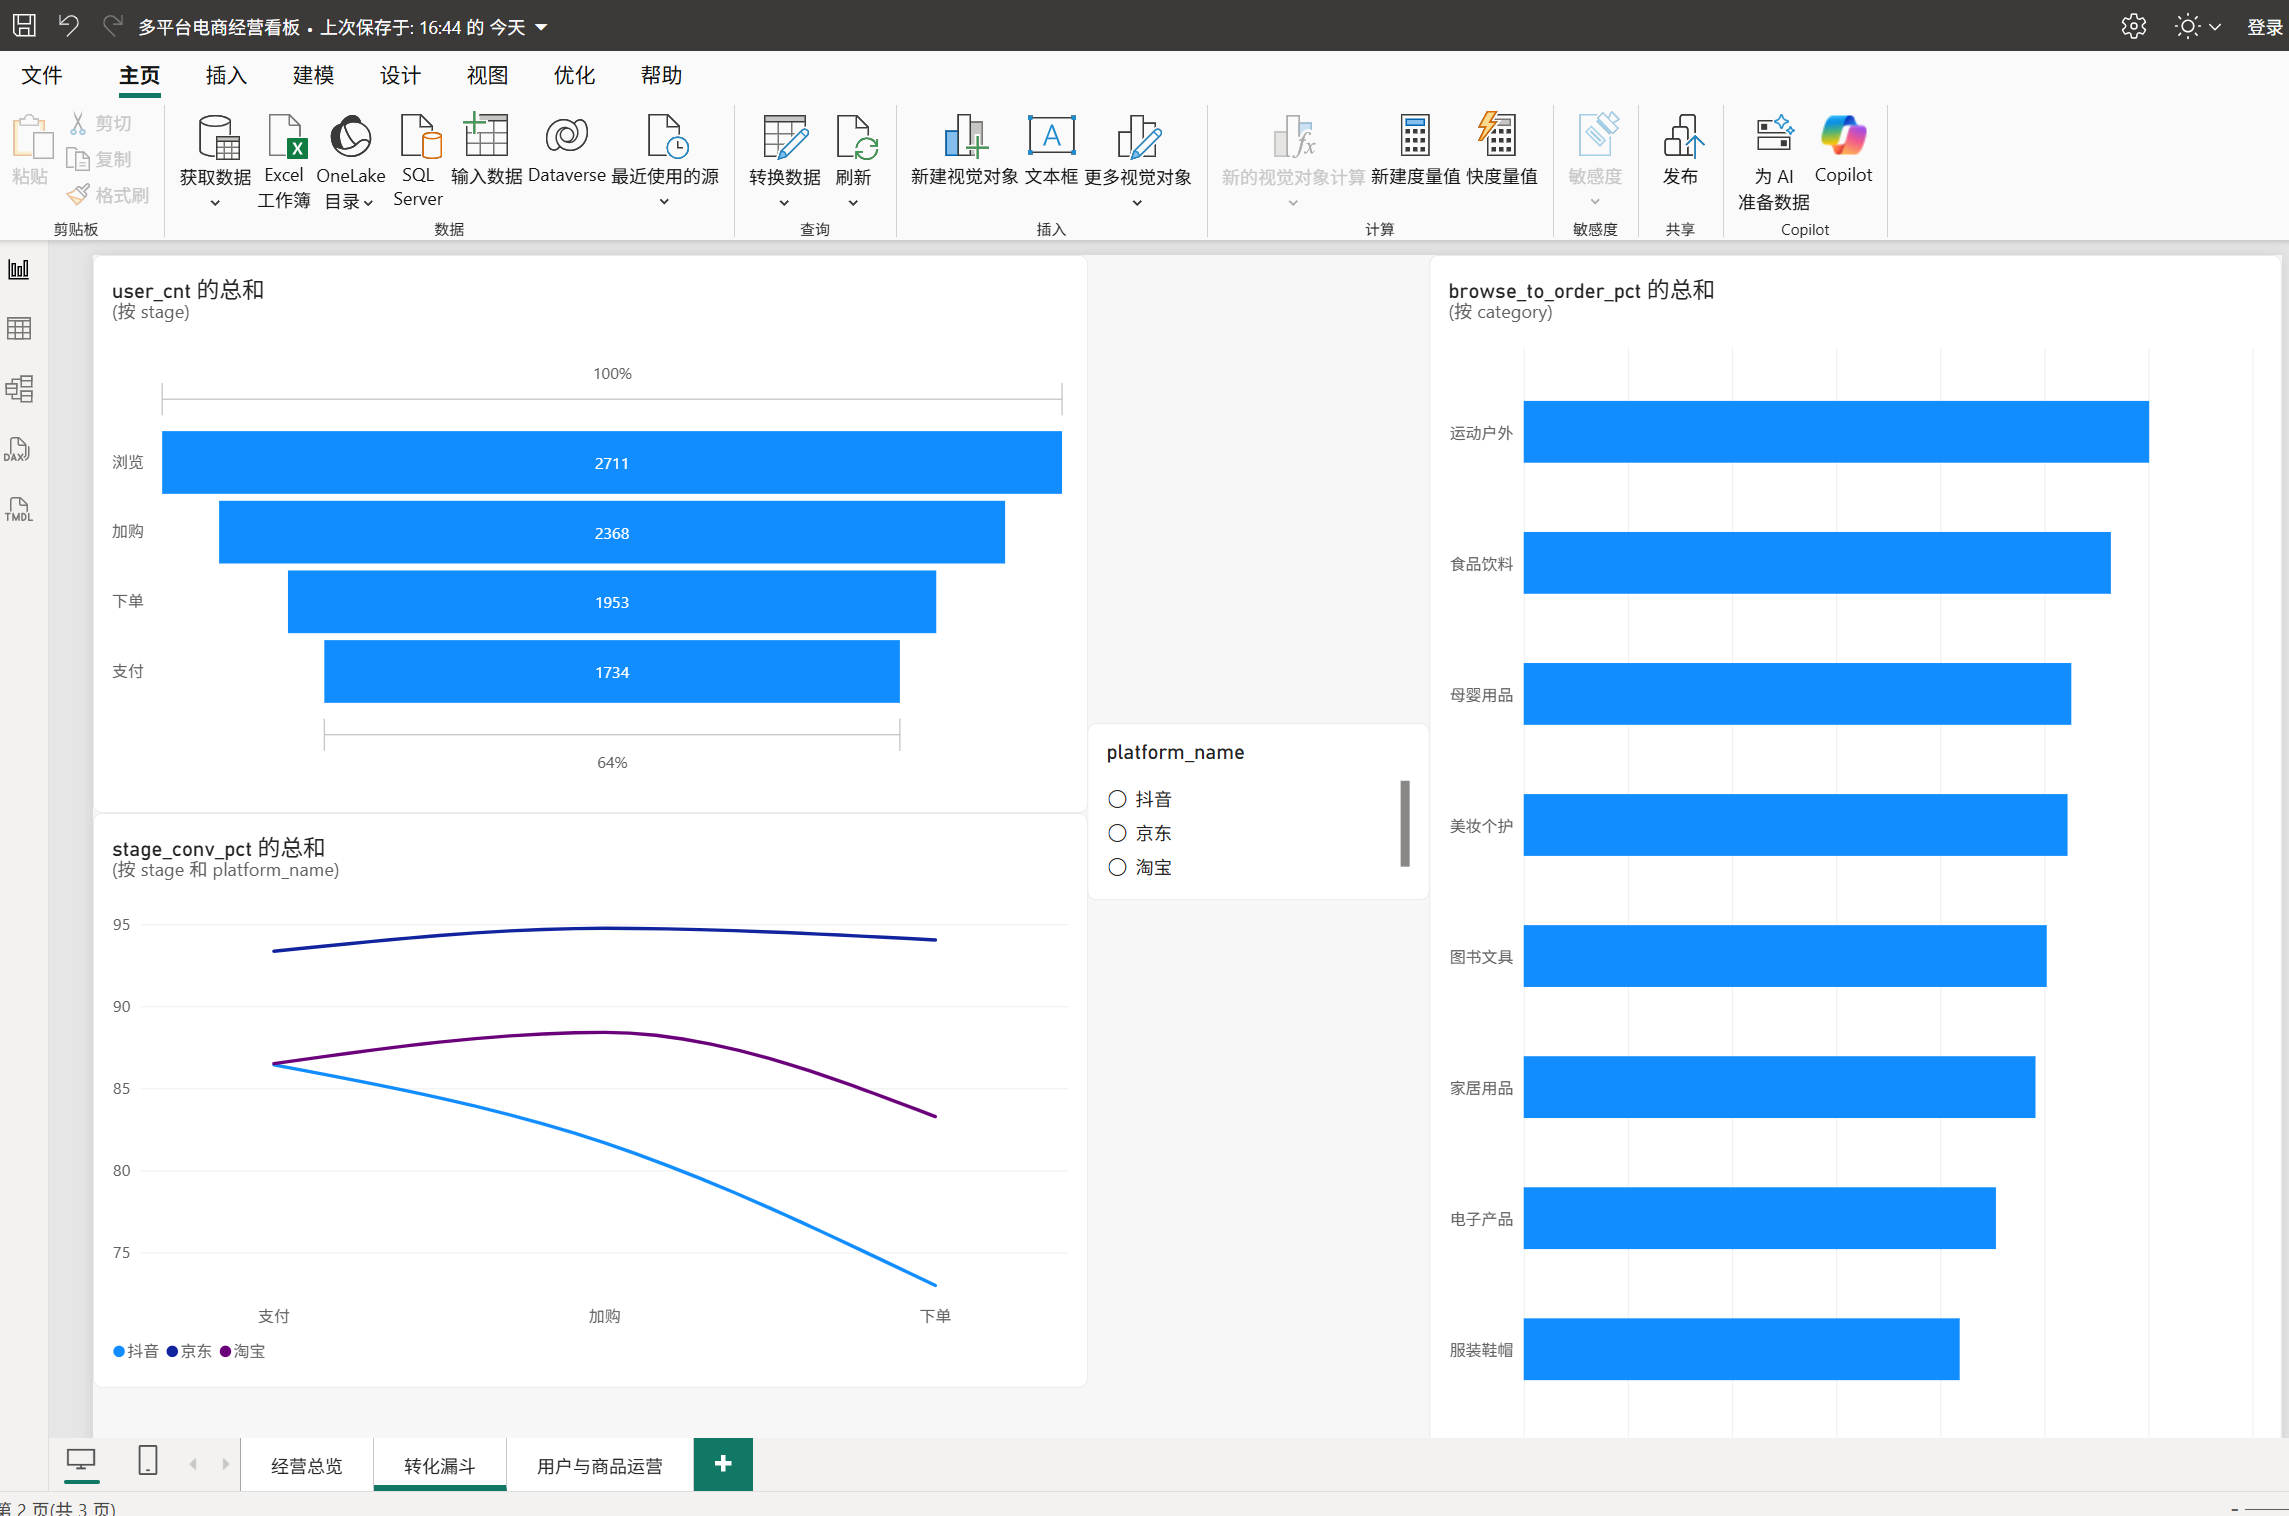

What the dashboard file says about the page in this screenshot:
{"tool":"powerbi","page":{"name":"转化漏斗","canvas":[1920,1080],"ordinal":1},"visuals":[{"type":"funnel","fields":{"Category":["fct_funnel.stage"],"Y":["Sum(fct_funnel.user_cnt)"]},"box":[0,0,872.2,451.4],"z":0},{"type":"listSlicer","fields":{"Values":["fct_funnel.platform_name"]},"box":[872.2,411.1,300,155.6],"z":1000},{"type":"lineChart","fields":{"Category":["fct_funnel.stage"],"Series":["fct_funnel.platform_name"],"Y":["Sum(fct_funnel.stage_conv_pct)"]},"box":[0,519.4,872.2,473.6],"z":2000},{"type":"clusteredBarChart","fields":{"Category":["fct_category_funnel.category"],"Y":["Sum(fct_category_funnel.browse_to_order_pct)"]},"box":[1172.2,0,747.2,1080.6],"z":2001}]}

Visuals, with their boxes on the page's 1920x1080 design canvas (x1, y1, x2, y2). These are canvas units, not pixel positions in the 2289x1516 screenshot, which may show the page scaled, cropped or inside an application window:
funnel - fct_funnel.stage x Sum(fct_funnel.user_cnt): (0, 0, 872, 451)
listSlicer - fct_funnel.platform_name: (872, 411, 1172, 567)
lineChart - fct_funnel.stage x fct_funnel.platform_name: (0, 519, 872, 993)
clusteredBarChart - fct_category_funnel.category x Sum(fct_category_funnel.browse_to_order_pct): (1172, 0, 1919, 1081)
